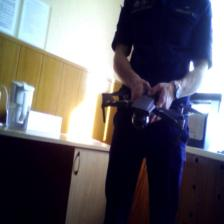drone: (99, 78, 200, 138)
